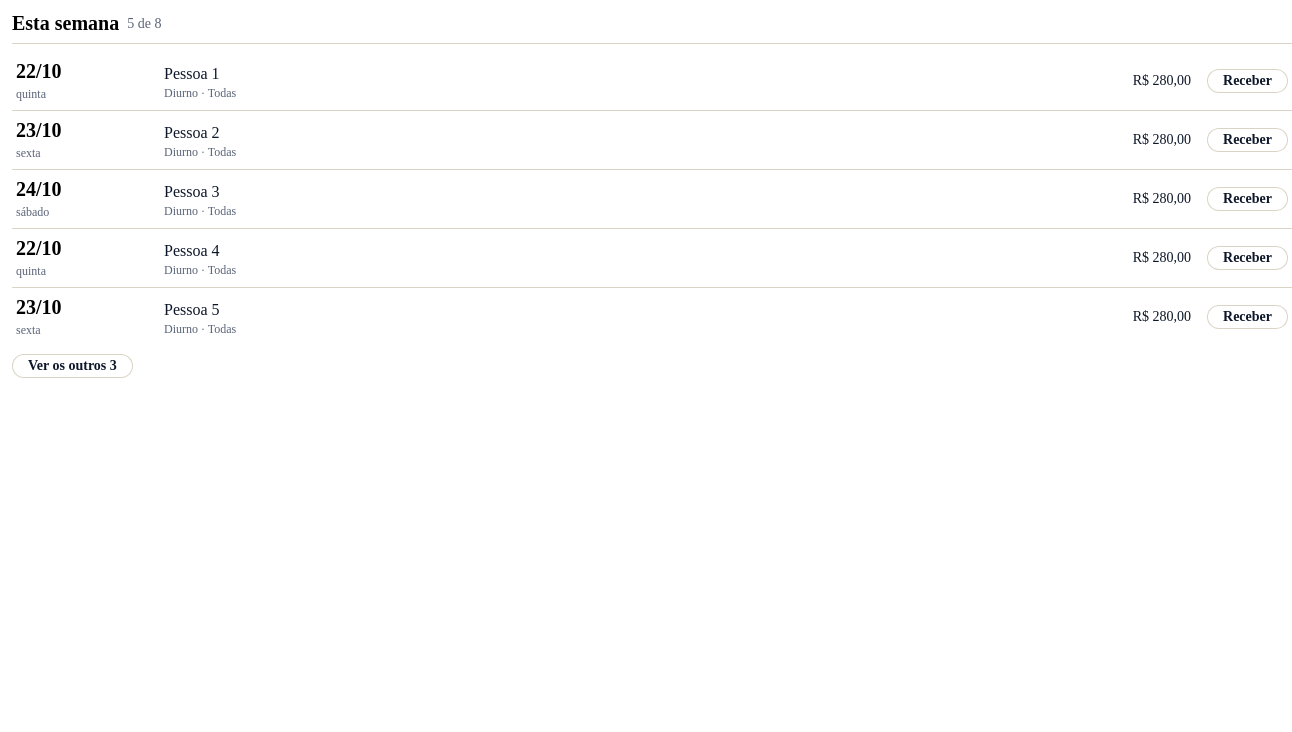
Scenario: AgendaGrupo › esta semana mostra cinco e deixa o resto atrás de um botão que alterna
The image size is (1292, 732).
Expected: the number of list items is 5, [12,52,1291,111]; [12,111,1291,170]; [12,170,1291,229]; [12,229,1291,288]; [12,288,1291,346]
Expected: the text "5 de 8" is shown, [127,16,161,32]
Click the button "Ver os outros 3" at (72, 366), box [12,354,133,378]
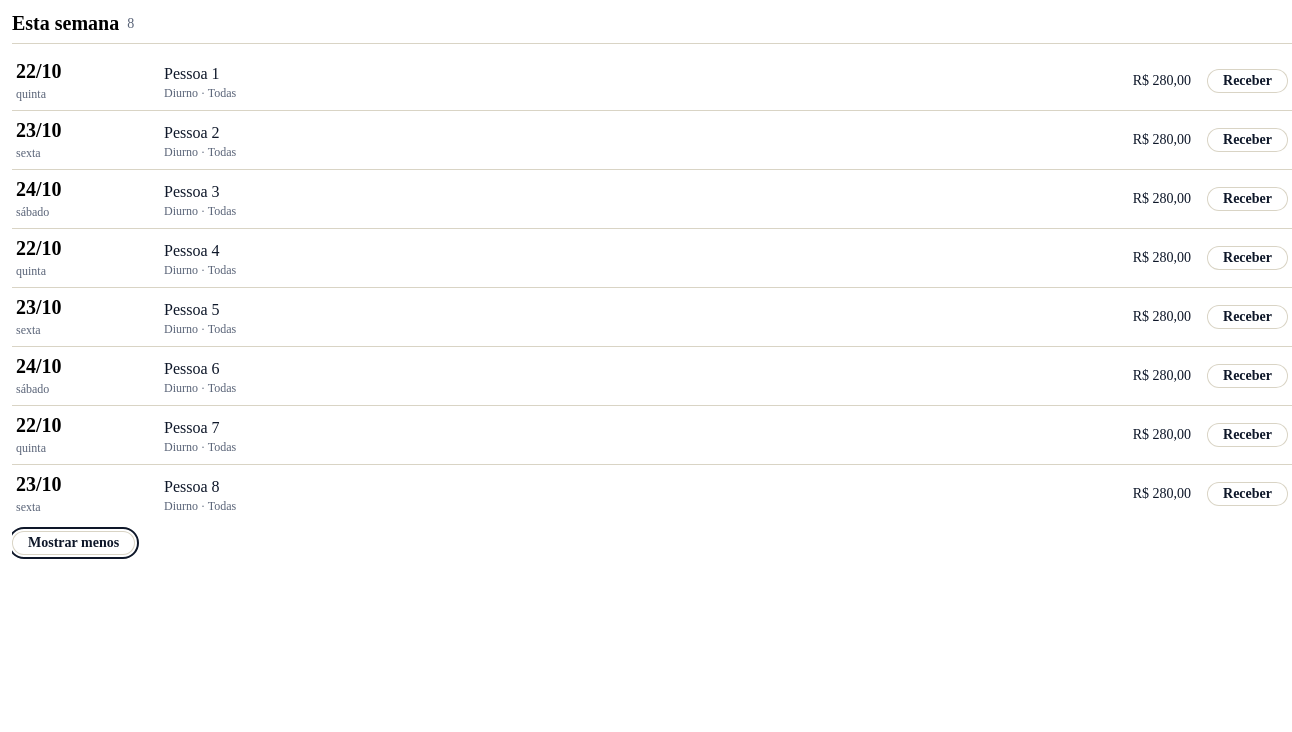
Result: the number of list items is 8
Result: the button "Mostrar menos" is expanded
Click the button "Mostrar menos" at (74, 543), box [12,531,135,555]
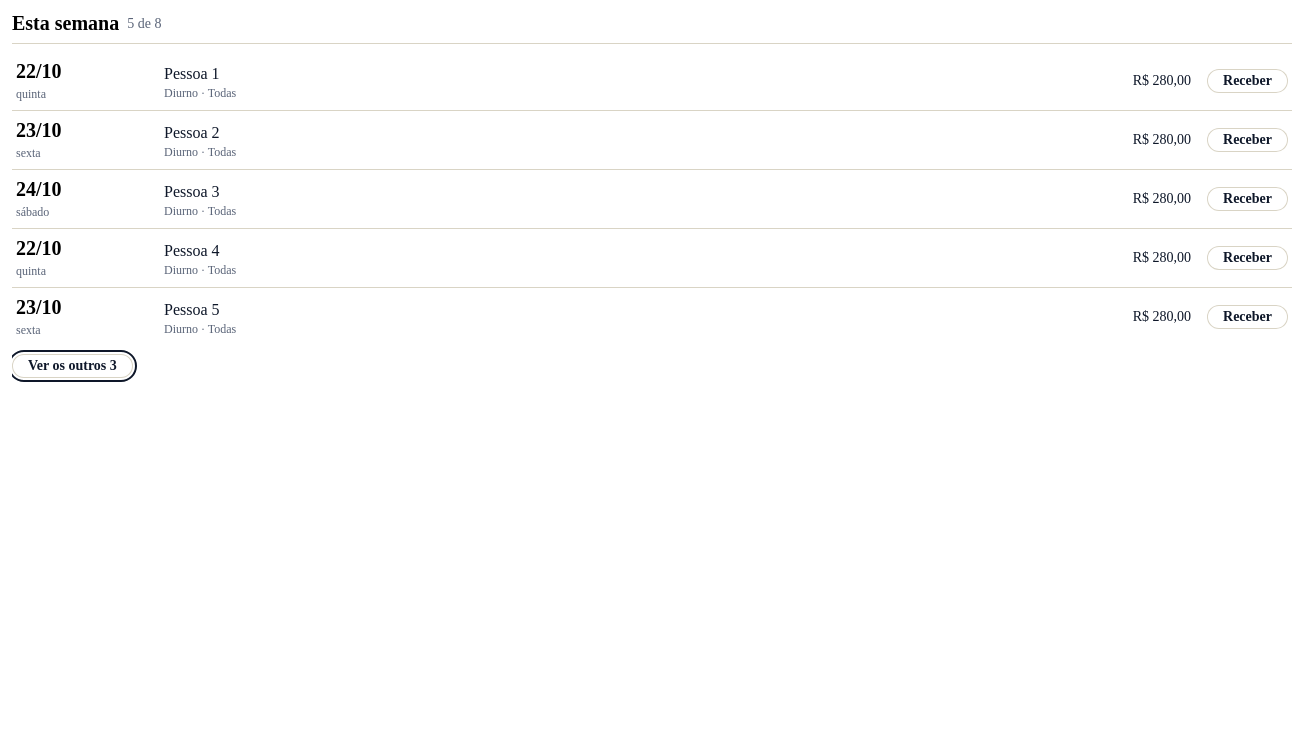
Result: the number of list items is 5 at [12,52,1291,111]; [12,111,1291,170]; [12,170,1291,229]; [12,229,1291,288]; [12,288,1291,346]
